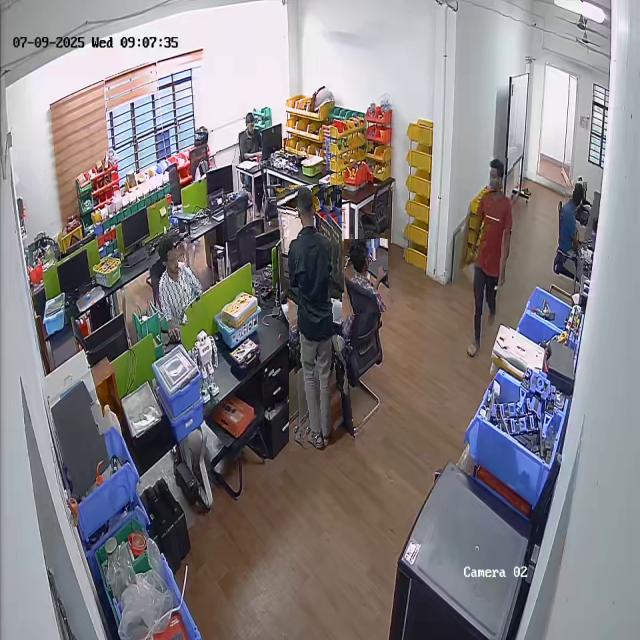person: (282, 184, 349, 452), (459, 157, 512, 358), (147, 233, 205, 328), (343, 239, 389, 314), (560, 180, 593, 258)
